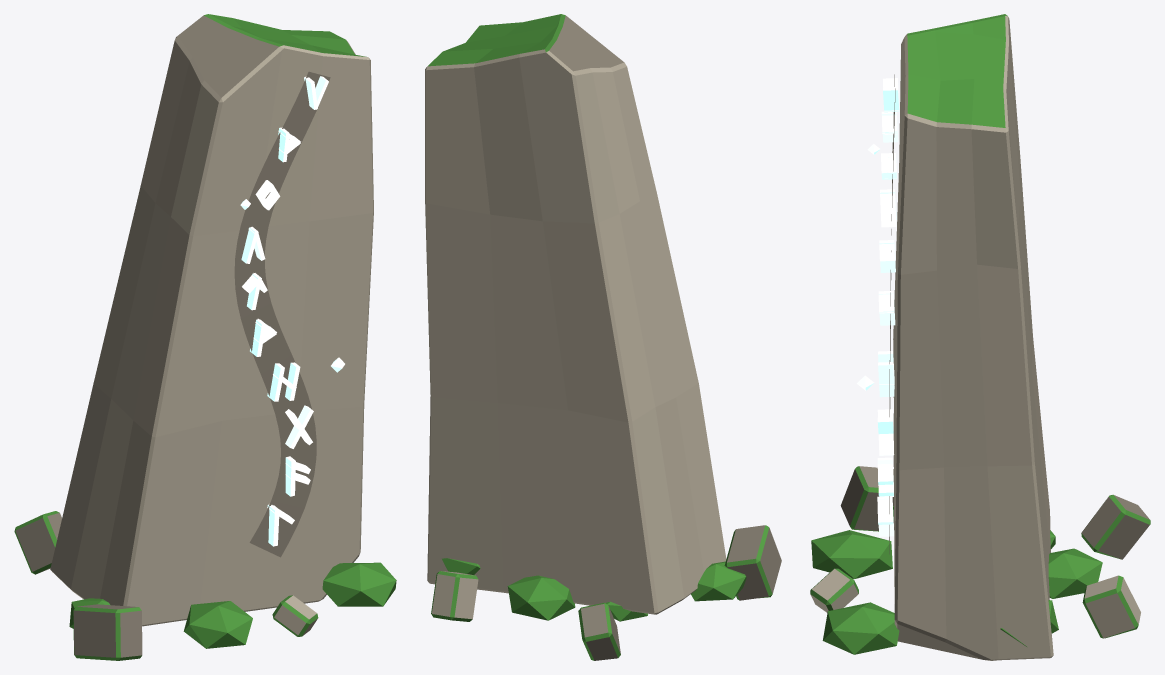
Rendered from whisper_stone.glb.
3 views of the same model, side by side, from view 1: azimuth 30°, elevation 25°; view 2: azimuth 150°, elevation 25°; view 3: azimuth 270°, elevation 25° (orthographic). The views are drawn at different scales.
Visible parts, largest first — view 1: Stone, MossBase, Runes; view 2: Stone, MossBase; view 3: Stone, MossBase, Runes.
Boxes of the visible parts, x1,y1,x2,y2 form: Stone: (50, 14, 373, 626); MossBase: (14, 511, 396, 660); Runes: (240, 76, 344, 546); Stone: (425, 14, 726, 614); MossBase: (431, 525, 781, 660); Stone: (889, 14, 1053, 660); MossBase: (810, 466, 1150, 654); Runes: (857, 78, 899, 536).
Size of the model in its own units: 1.25 by 2.18 by 1.13.
